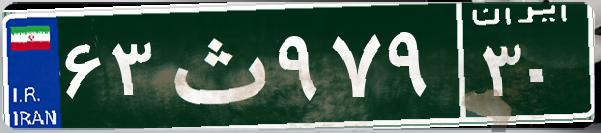0: (525, 38, 570, 115)
3: (475, 38, 525, 113), (110, 28, 158, 105)
6: (57, 26, 110, 107)
7: (330, 28, 385, 110)
9: (385, 28, 445, 110), (273, 28, 330, 110)
ث: (158, 15, 273, 115)
